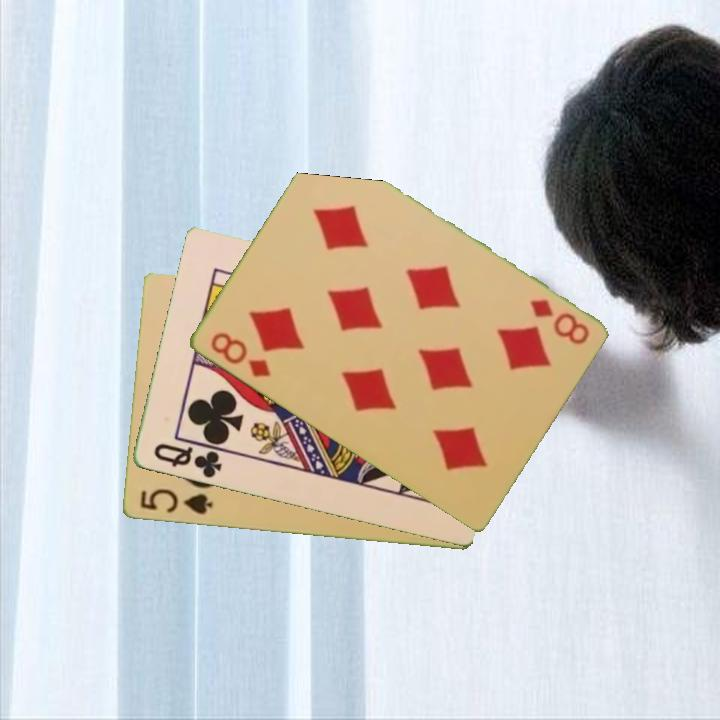5s: (136, 485, 215, 518)
8d: (206, 328, 273, 381), (526, 295, 592, 348)
Qc: (149, 440, 225, 481)
